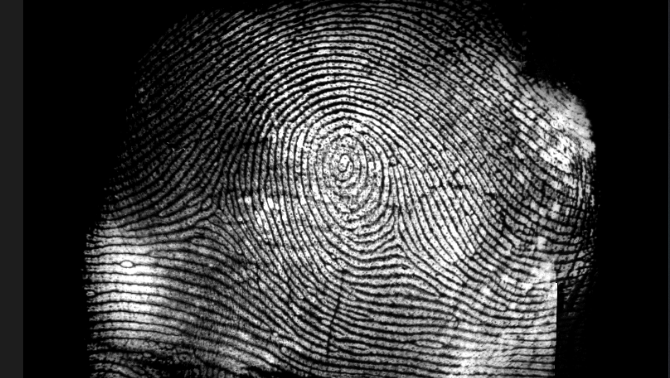nucelo: (327, 148, 357, 184)
verticilo: (203, 194, 228, 223), (385, 224, 407, 251)
